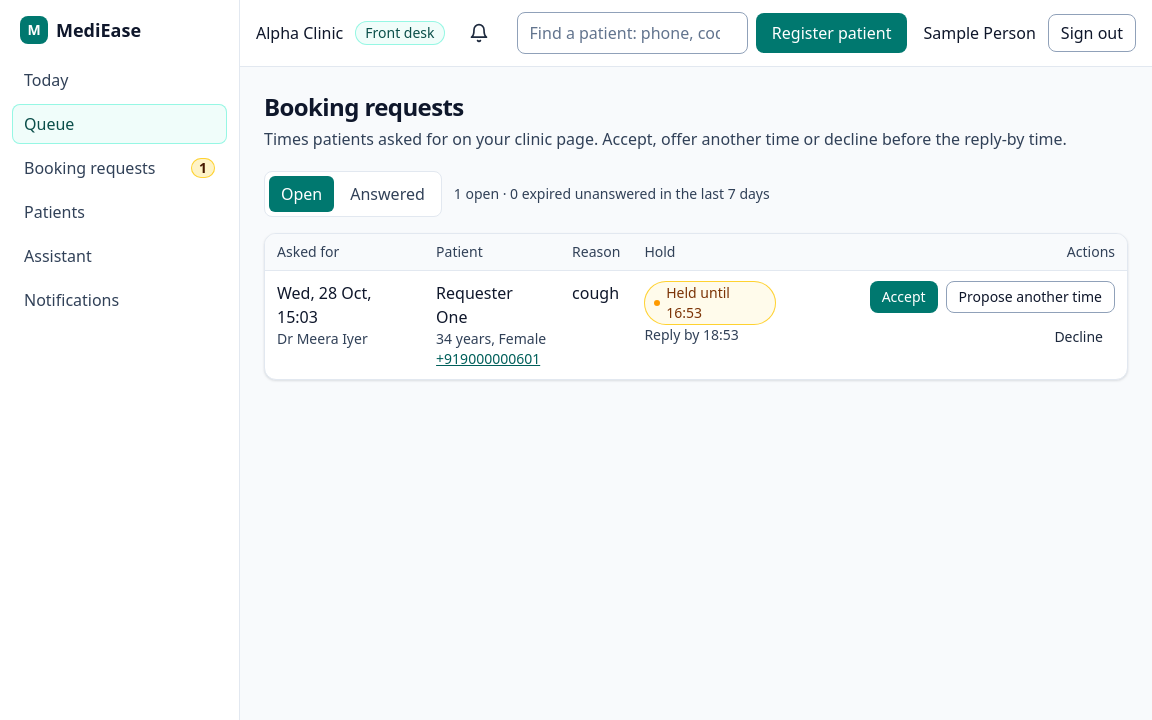
answering requests (M6b-P5, R34, R36, R39) › accept: a candidate can be chosen; a lost race says someone answered
What coordinates should you click on to do the following:
click the button with aria-label "Accept Requester One's request"
I would click on:
 (904, 297)
Its box is x1=870 y1=281 x2=938 y2=313.
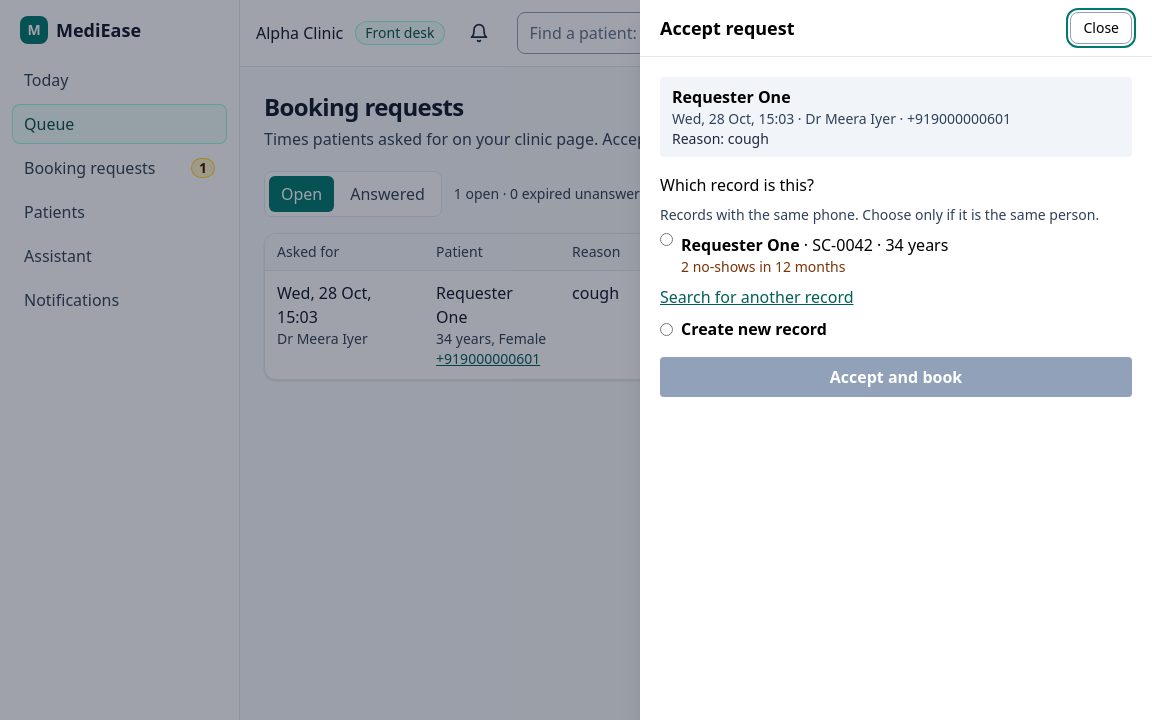
What coordinates should you click on to do the following:
click the radio button labelled "Requester One · SC-0042 · 34 years 2 no-shows in 12 months"
I would click on:
 (666, 240)
Its box is x1=660 y1=233 x2=673 y2=246.
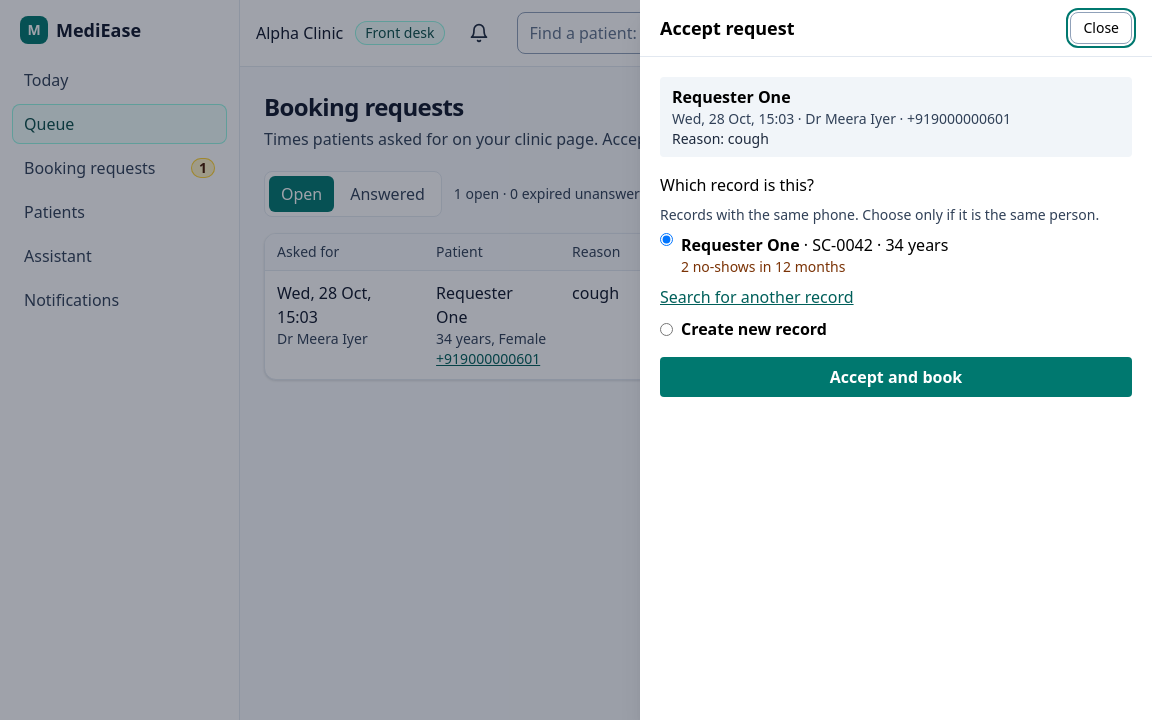
What coordinates should you click on to do the following:
click the button "Accept and book"
I would click on:
 (896, 377)
Its box is x1=660 y1=357 x2=1132 y2=397.
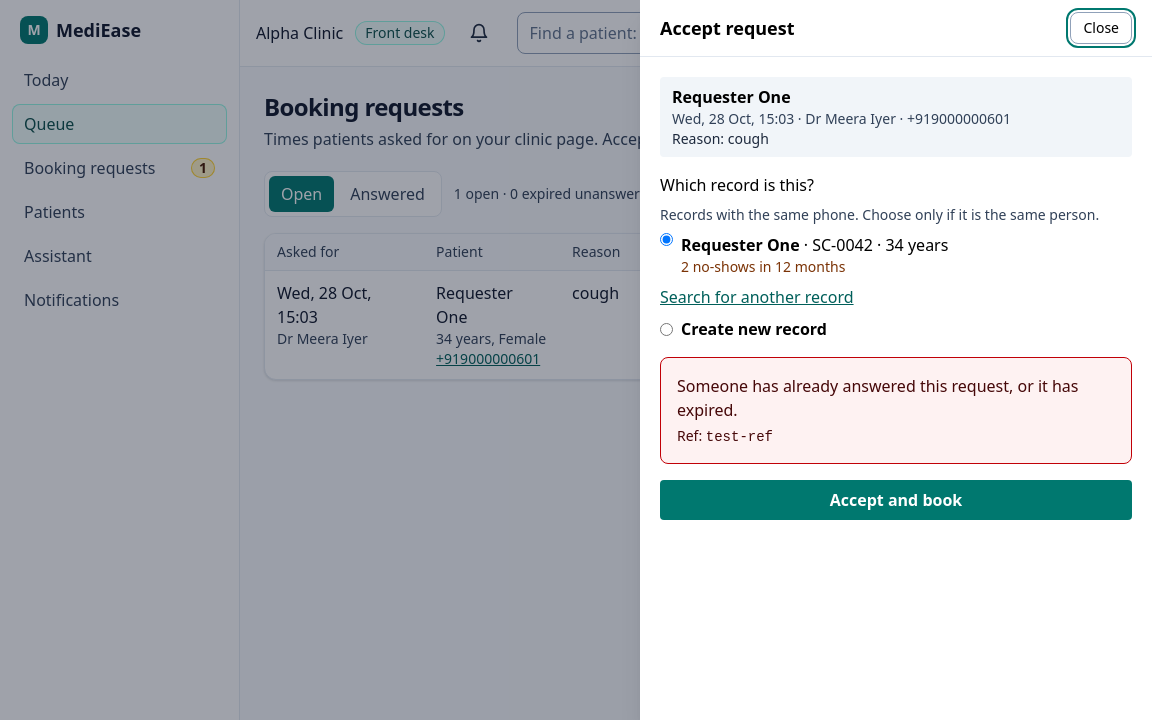
Check: the message shows "Someone has already answered this request", box x1=677 y1=375 x2=1078 y2=421
